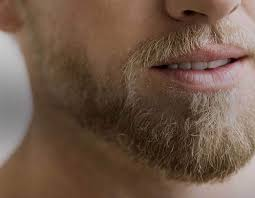b.y: (117, 21, 255, 180)
